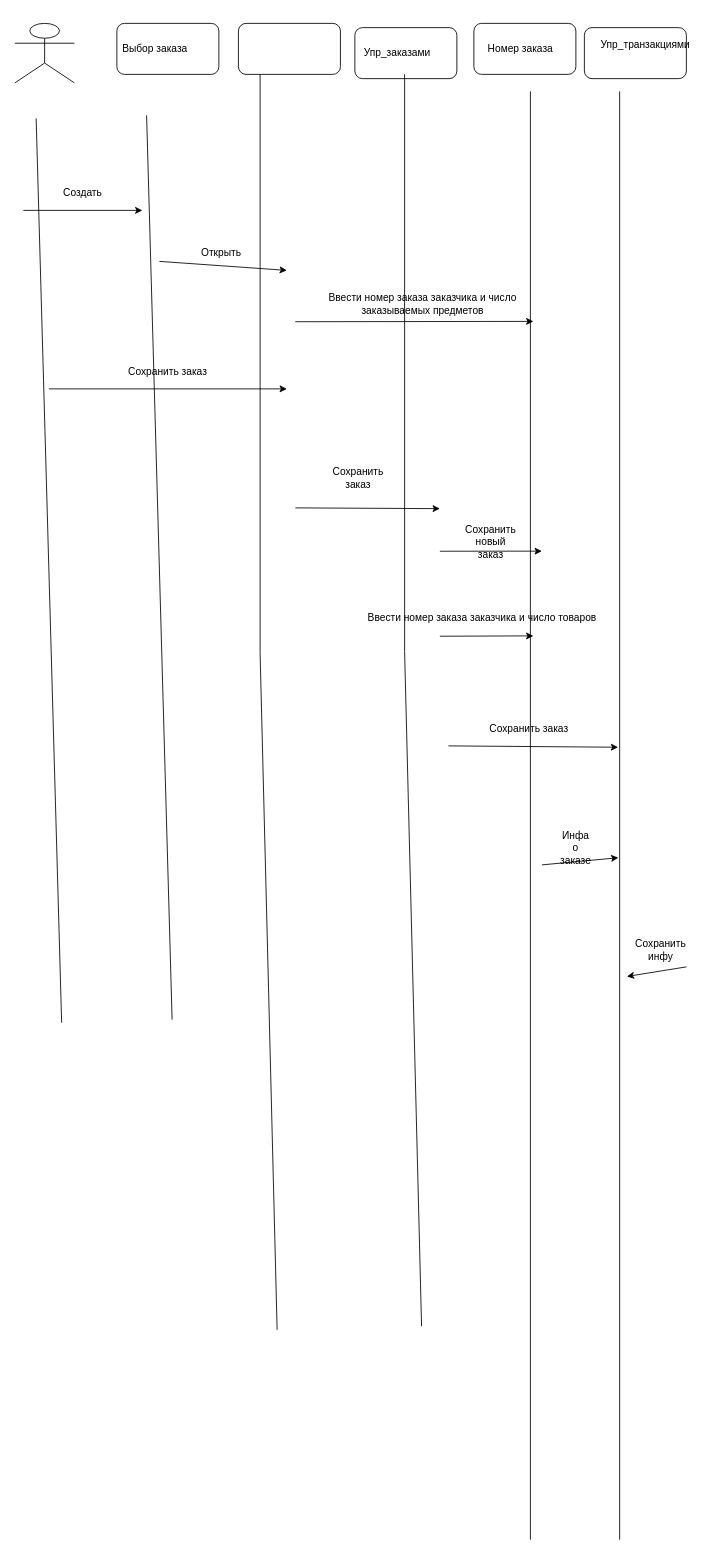
The diagram is 708 pixels wide and 1555 high, and some of its shapes have lost their labels. Each missing label, with the centre of its shape:
"Заказ деталей" belongs at (x=289, y=48).
"Продавец" belongs at (x=44, y=53).
